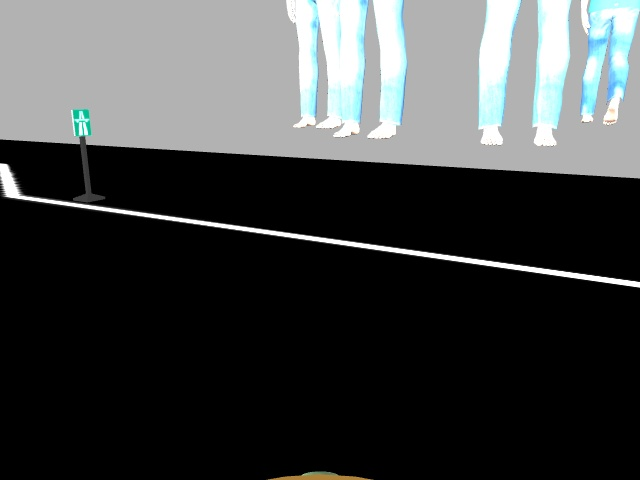HighwayEntrance: (71, 110, 90, 136)
